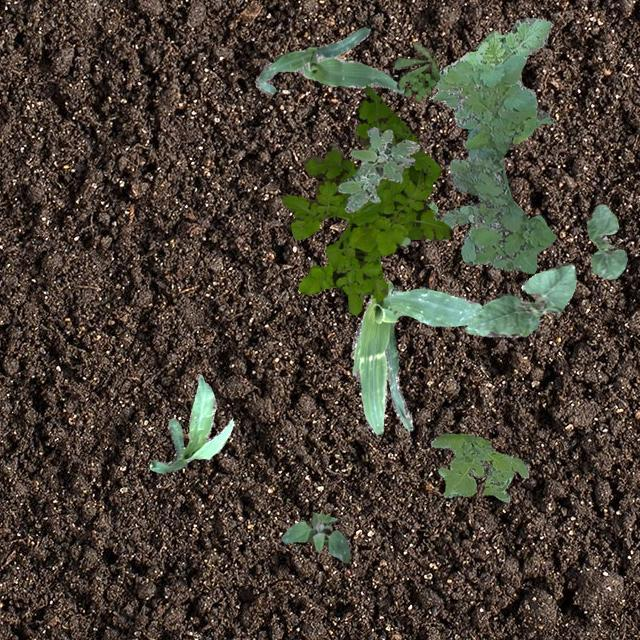crop: (349, 281, 481, 434), (254, 26, 404, 94), (464, 262, 576, 336), (148, 374, 232, 472), (586, 202, 626, 278), (430, 89, 458, 108)
weed: (280, 84, 452, 314), (434, 16, 556, 272), (336, 126, 418, 212), (430, 432, 528, 501), (280, 512, 350, 562), (394, 40, 438, 100), (399, 200, 454, 244)
